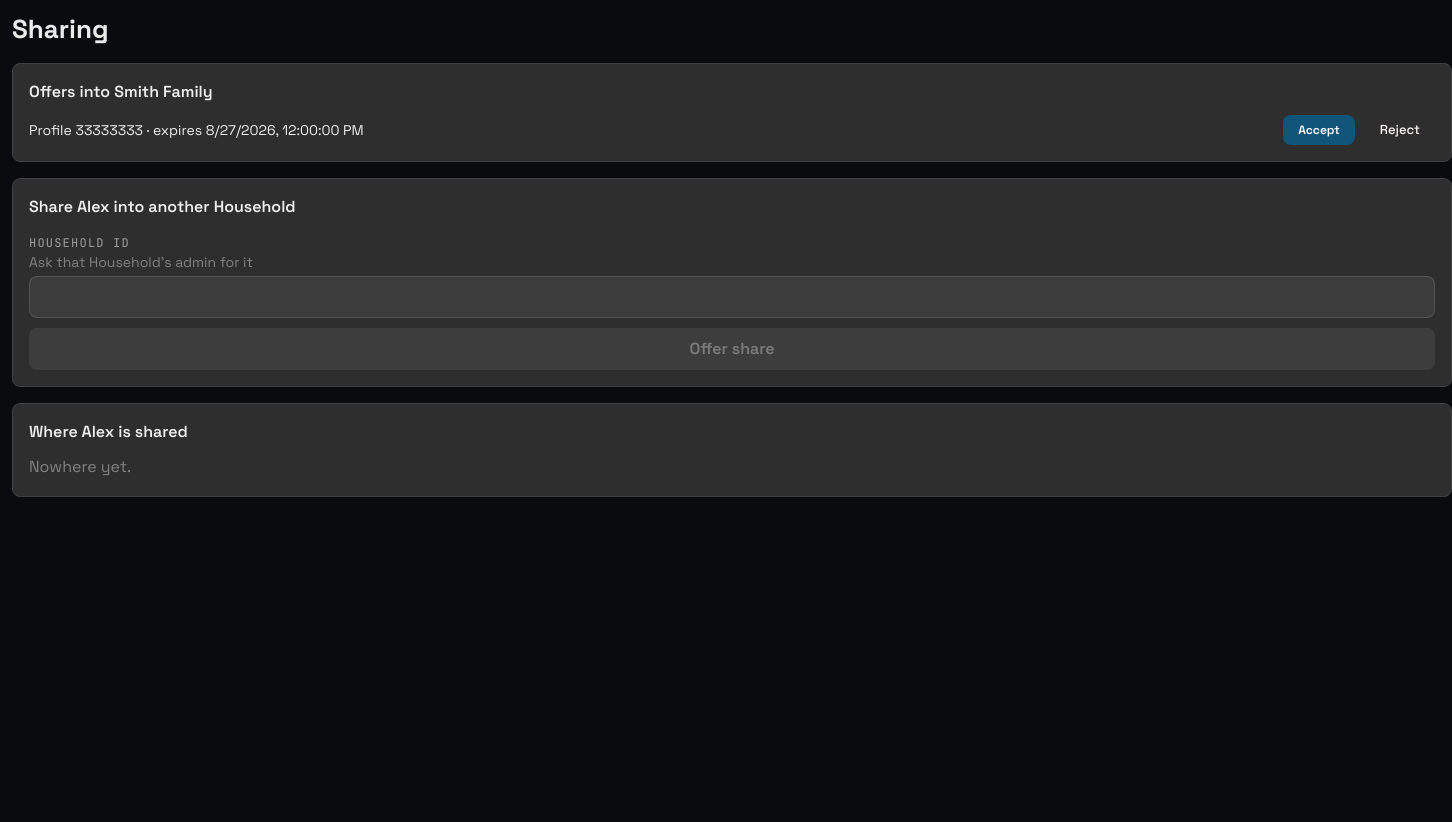
SharingScreen › shouldReportARejectedDecisionInsteadOfSwallowingIt
Step 1. Click the button "Accept" → click(1319, 130), box [1283,115,1355,145]
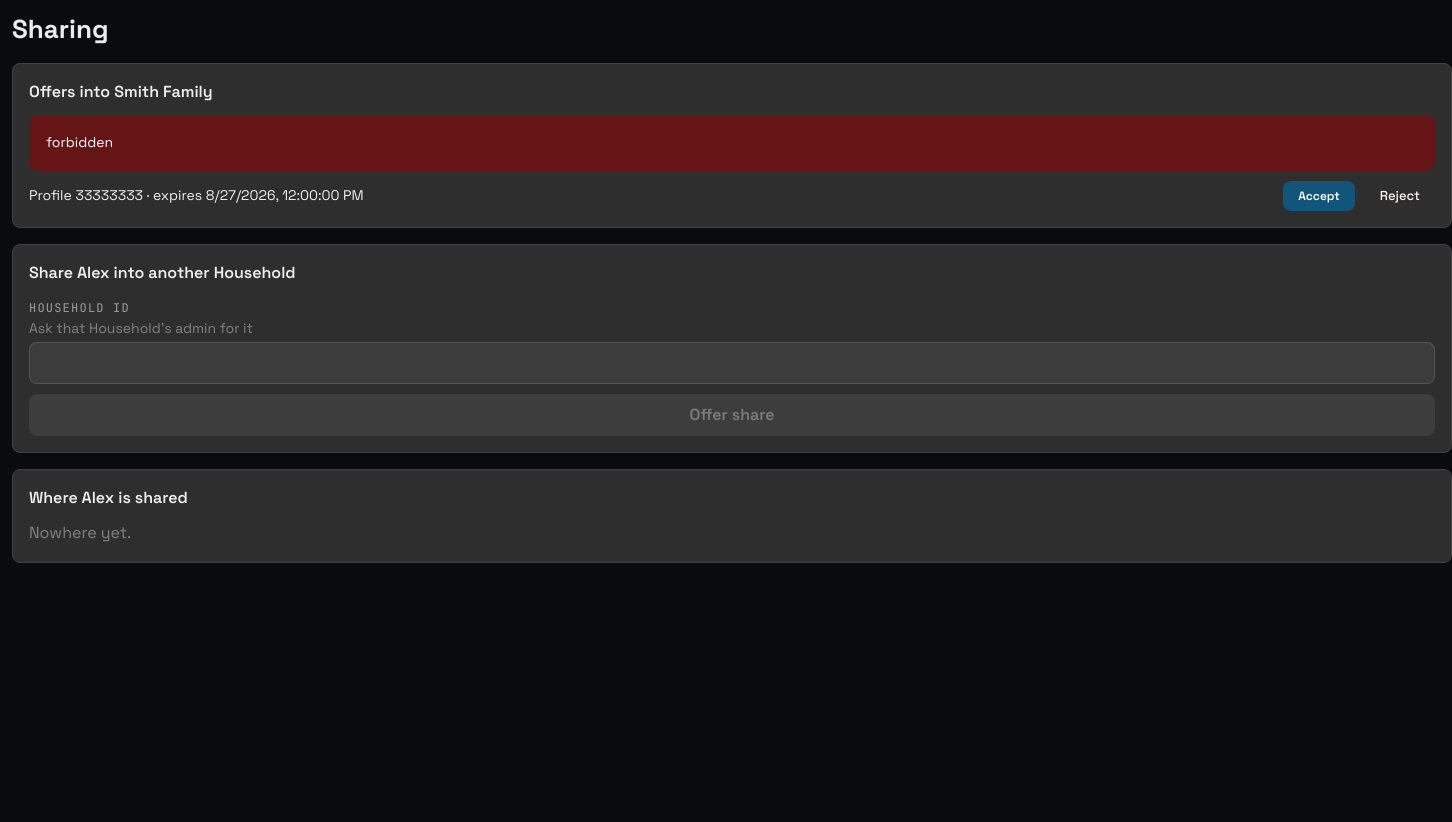
Expected: the button "Accept" is enabled, [1283,181,1355,211]
Now the message reads "forbidden", box [46,133,113,151]
